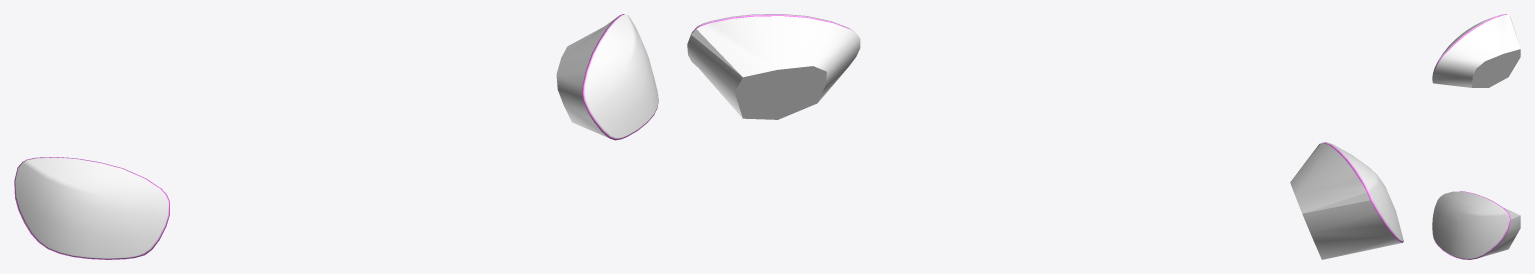
Rendered from Car_Mini_CountrymanJCW_2017_HeadLights_SetAcRb.fbx.
3 views of the same model, side by side, from view 1: azimuth 30°, elevation 25°; view 2: azimuth 150°, elevation 25°; view 3: azimuth 270°, elevation 25° (orthographic). The views are drawn at different scales.
Parts seen in each view (by area): view 1: HeadLightR 6, HeadLightL 6; view 2: HeadLightL 6, HeadLightR 6; view 3: HeadLightL 6, HeadLightR 6.
Boxes of the visible parts, <box> form: HeadLightR 6: <box>14,157,169,259</box>; HeadLightL 6: <box>556,14,658,140</box>; HeadLightL 6: <box>687,14,860,119</box>; HeadLightR 6: <box>1290,142,1403,259</box>; HeadLightL 6: <box>1432,191,1520,259</box>; HeadLightR 6: <box>1432,14,1520,87</box>.
Bounding box in the file's own units: 1.63 × 0.215 × 0.2932.
